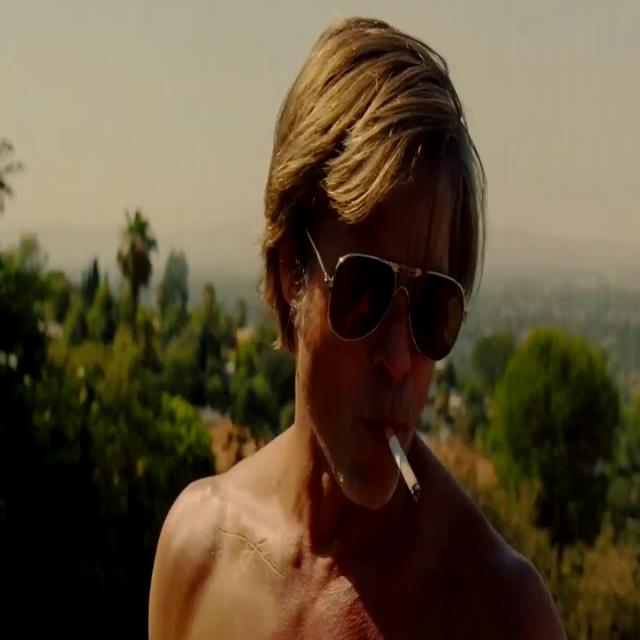Smooking: (385, 425, 426, 514)
